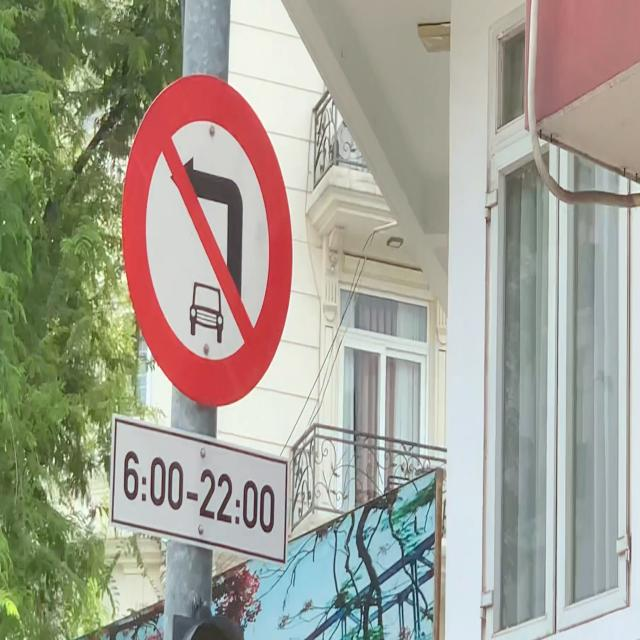Cam re trai: (111, 66, 302, 405)
